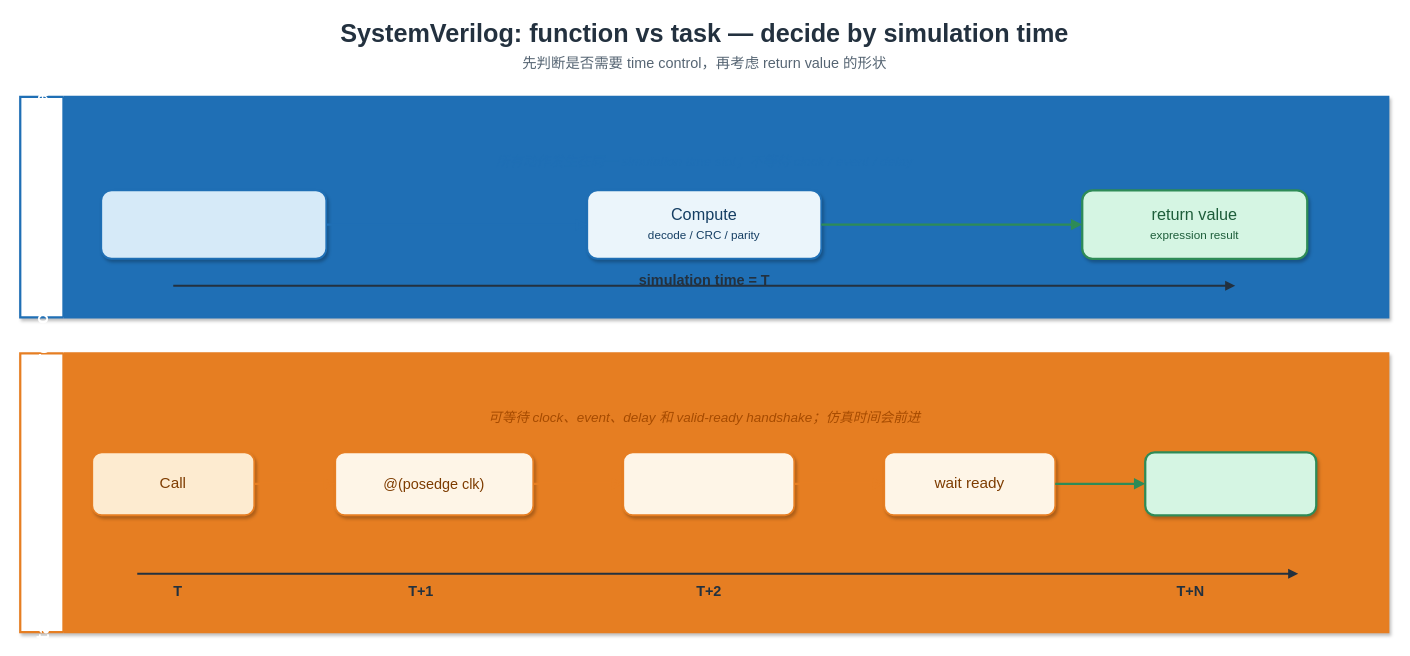
The diagram is 1410 pixels wide and 656 high, and some of its shapes have lost their labels. The centre of each missing label's shape, as x and y in pixels:
"drive valid" goes at (x=709, y=484).
"Input arguments data, addr, size" goes at (x=214, y=225).
"output response" goes at (x=1231, y=484).
